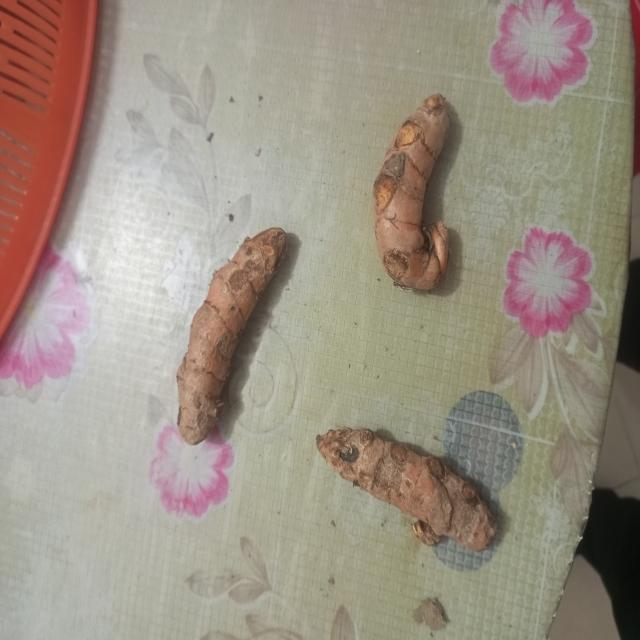ginger: (318, 421, 494, 548), (174, 227, 280, 437), (376, 95, 452, 290)
